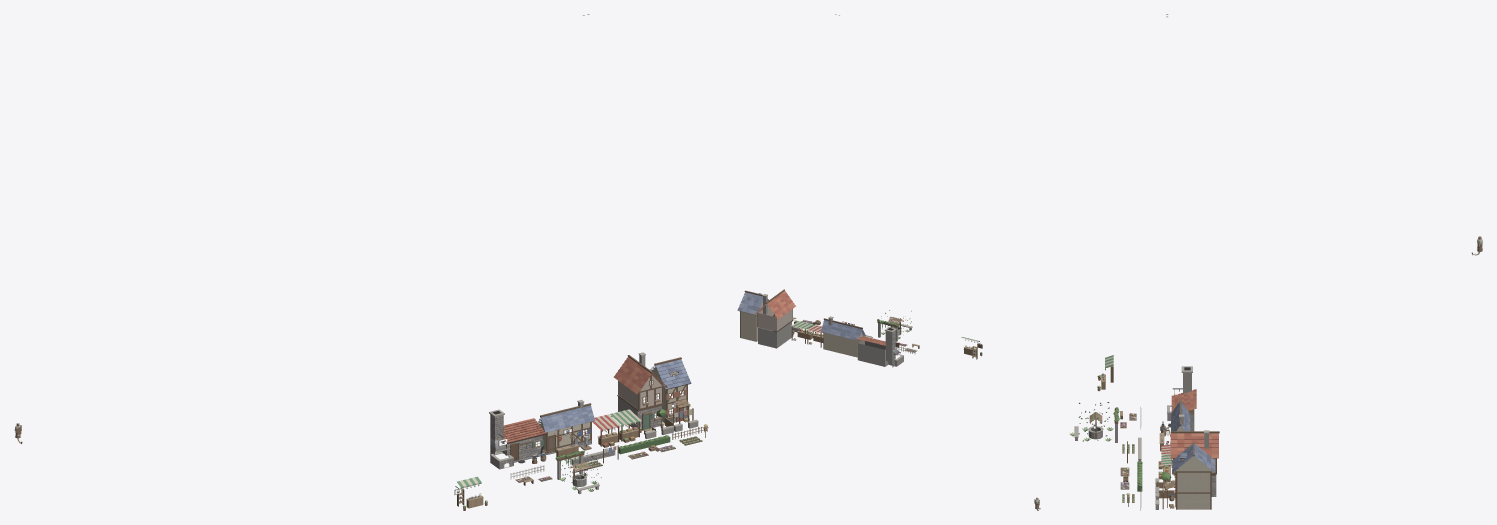
The model's file is distrito.glb.
3 renders of one model, left to right at view 1: azimuth 30°, elevation 25°; view 2: azimuth 150°, elevation 25°; view 3: azimuth 270°, elevation 25°, orthographic. The views are drawn at different scales.
Visible parts, largest first — view 1: bajo, edif_casa_a, edif_herreria, edif_armeria, edif_casa_b; view 2: edif_casa_a, bajo, edif_herreria, edif_armeria, edif_casa_b; view 3: bajo, edif_casa_b, edif_casa_a, edif_herreria, edif_armeria.
Boxes of the visible parts, <box> form: bajo: <box>454,14,708,510</box>; edif_casa_a: <box>613,352,667,430</box>; edif_herreria: <box>489,409,546,469</box>; edif_armeria: <box>538,399,595,454</box>; edif_casa_b: <box>650,357,691,423</box>; edif_casa_a: <box>755,289,795,348</box>; bajo: <box>773,14,982,359</box>; edif_herreria: <box>856,327,903,367</box>; edif_armeria: <box>821,316,865,357</box>; edif_casa_b: <box>737,290,768,341</box>; bajo: <box>1070,14,1175,510</box>; edif_casa_b: <box>1165,441,1215,509</box>; edif_casa_a: <box>1170,430,1219,496</box>; edif_herreria: <box>1167,366,1196,431</box>; edif_armeria: <box>1171,399,1190,431</box>.
Size of the model in its own units: 67.63 by 53.79 by 45.21.
